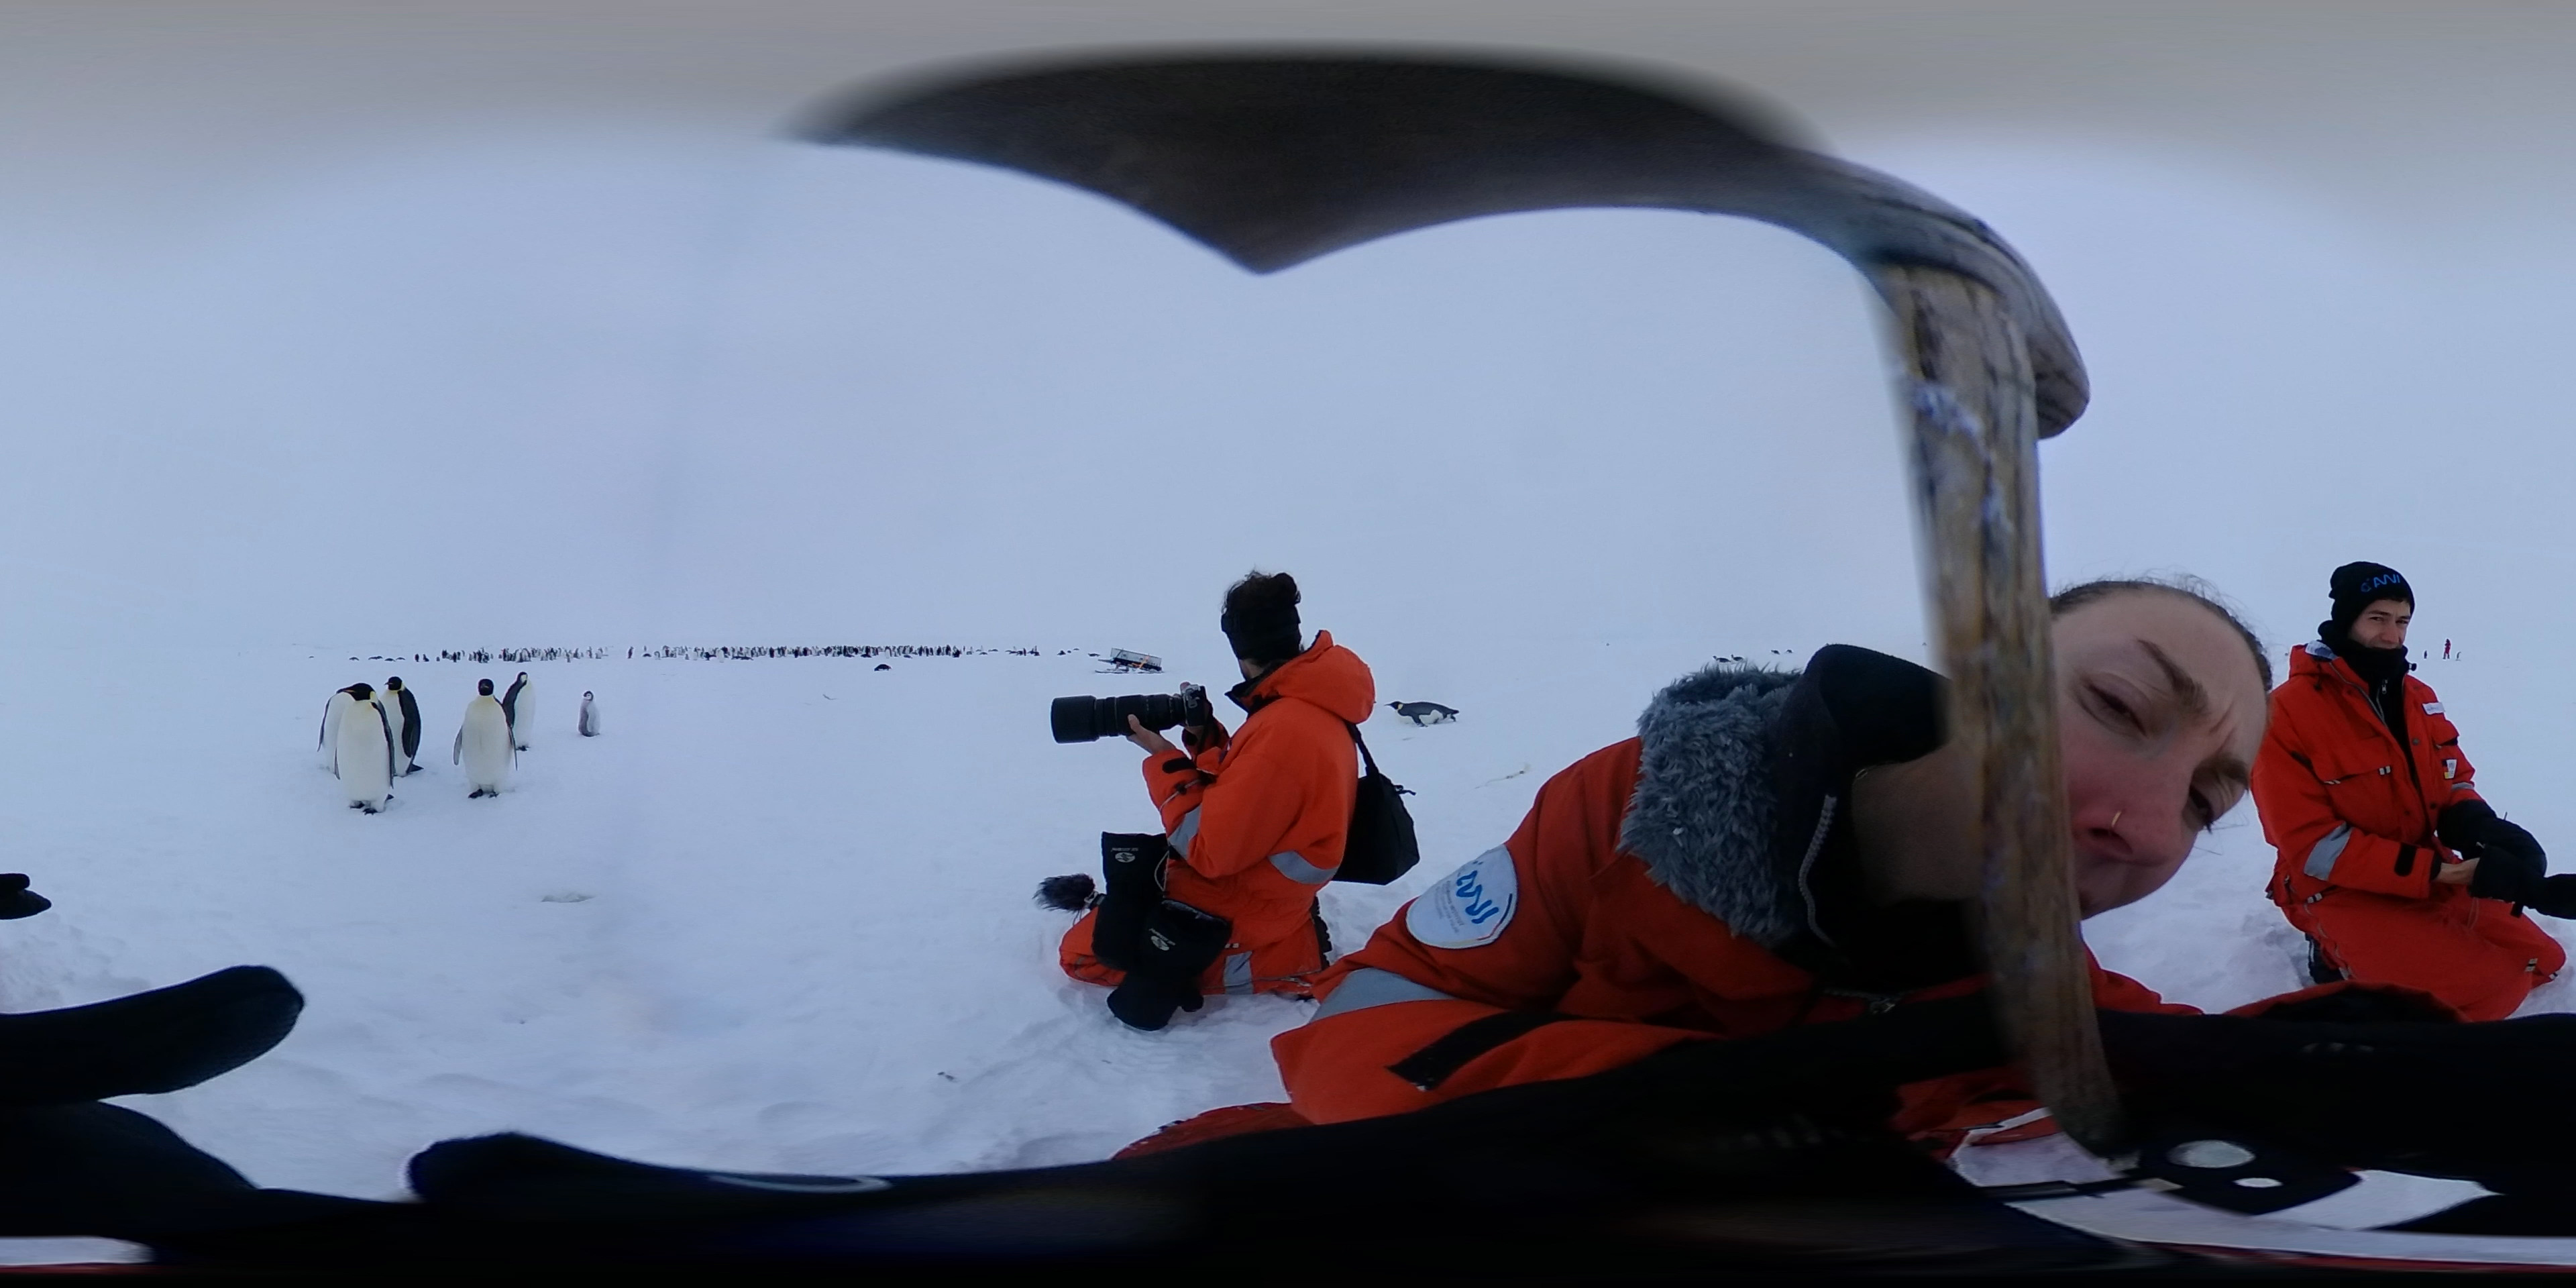adult_standing_penguin: (448, 675, 519, 807), (335, 682, 398, 818), (376, 674, 427, 782), (503, 667, 537, 754)
adult_toboggan_penguin: (1385, 695, 1462, 728), (871, 660, 895, 674)
juvenile_penguin: (575, 687, 605, 739)
researcher: (1219, 570, 2274, 1173), (2246, 552, 2576, 1030), (1045, 572, 1349, 1007), (2441, 636, 2453, 662)
